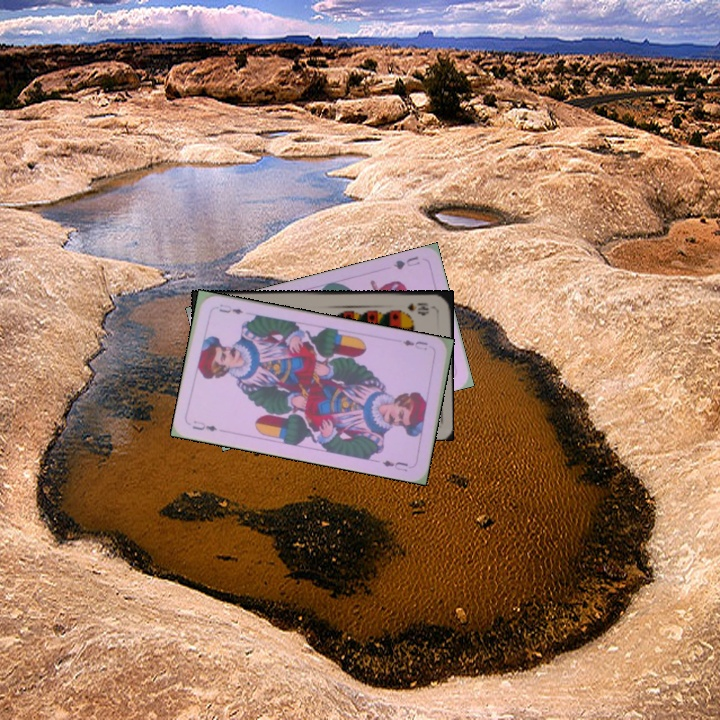EU: (399, 335, 430, 353), (188, 417, 220, 434)
GU: (389, 252, 422, 272)
S10: (404, 298, 436, 314)
